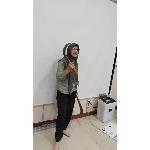Celurit: (61, 42, 81, 74)
Golok: (74, 94, 88, 120)
